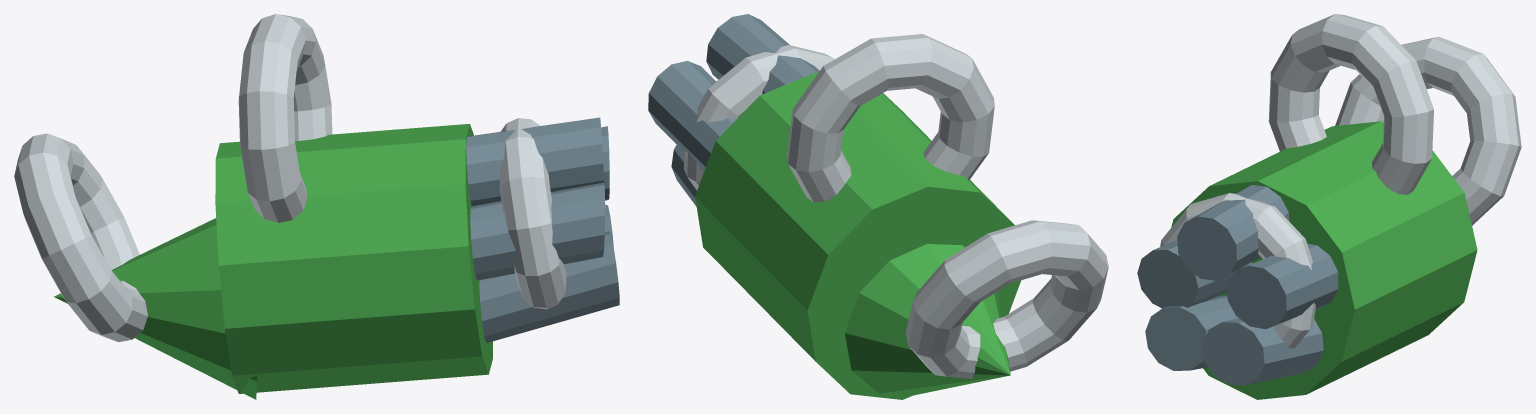
3 views of the same model, side by side, from view 1: azimuth 30°, elevation 25°; view 2: azimuth 150°, elevation 25°; view 3: azimuth 270°, elevation 25° (orthographic). The views are drawn at different scales.
Visible parts, largest first — view 1: mesh_886709000, mesh_1689174269, mesh_1607657927, mesh_631010015, mesh_1325834439, mesh_462081786, mesh_373804995, mesh_548848724; view 2: mesh_886709000, mesh_1689174269, mesh_1607657927, mesh_631010015, mesh_565916867, mesh_1325834439, mesh_373804995, mesh_1592479474; view 3: mesh_886709000, mesh_1607657927, mesh_1689174269, mesh_565916867, mesh_1592479474, mesh_373804995, mesh_1325834439, mesh_548848724, mesh_462081786.
Part boxes in pixels (x1,y1,x2,y2): mesh_886709000: (215,124,492,393); mesh_1689174269: (14,133,147,342); mesh_1607657927: (238,14,332,222); mesh_631010015: (54,218,256,399); mesh_1325834439: (499,118,566,309); mesh_462081786: (470,182,605,280); mesh_373804995: (466,117,604,206); mesh_548848724: (479,231,619,343); mesh_886709000: (695,72,1021,399); mesh_1689174269: (905,220,1108,378); mesh_1607657927: (787,34,994,202); mesh_631010015: (844,244,1010,395); mesh_565916867: (648,61,736,171); mesh_1325834439: (684,45,833,190); mesh_373804995: (706,14,819,94); mesh_1592479474: (671,145,696,206); mesh_886709000: (1171,121,1477,399); mesh_1607657927: (1268,14,1433,194); mesh_1689174269: (1335,36,1521,225); mesh_565916867: (1227,243,1338,329); mesh_1592479474: (1202,318,1323,385); mesh_373804995: (1177,185,1289,280); mesh_1325834439: (1160,193,1315,348); mesh_548848724: (1145,295,1238,370); mesh_462081786: (1137,240,1251,308).
Bounding box in the file's own units: 47.53 × 31.86 × 33.41.
